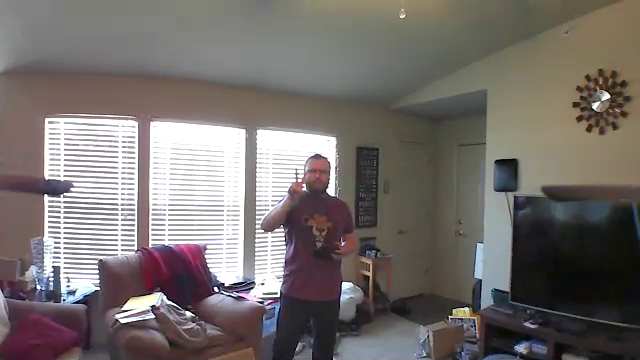peace: (287, 164, 310, 205)
